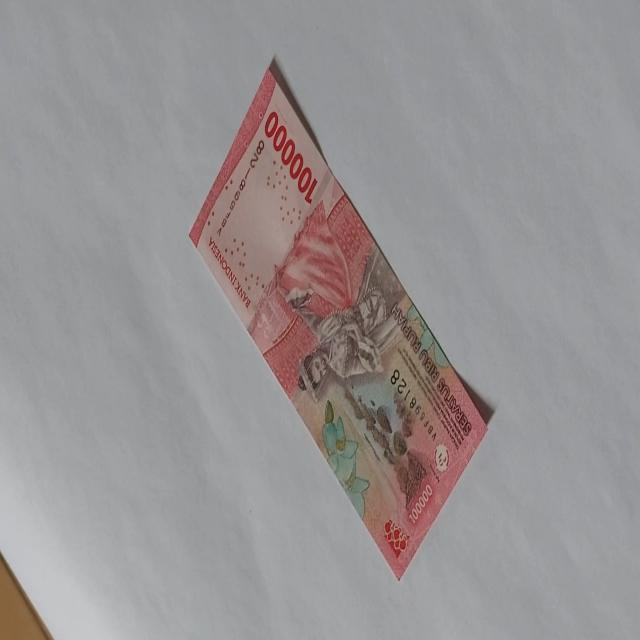seratus ribu rupiah: (188, 58, 490, 580)
